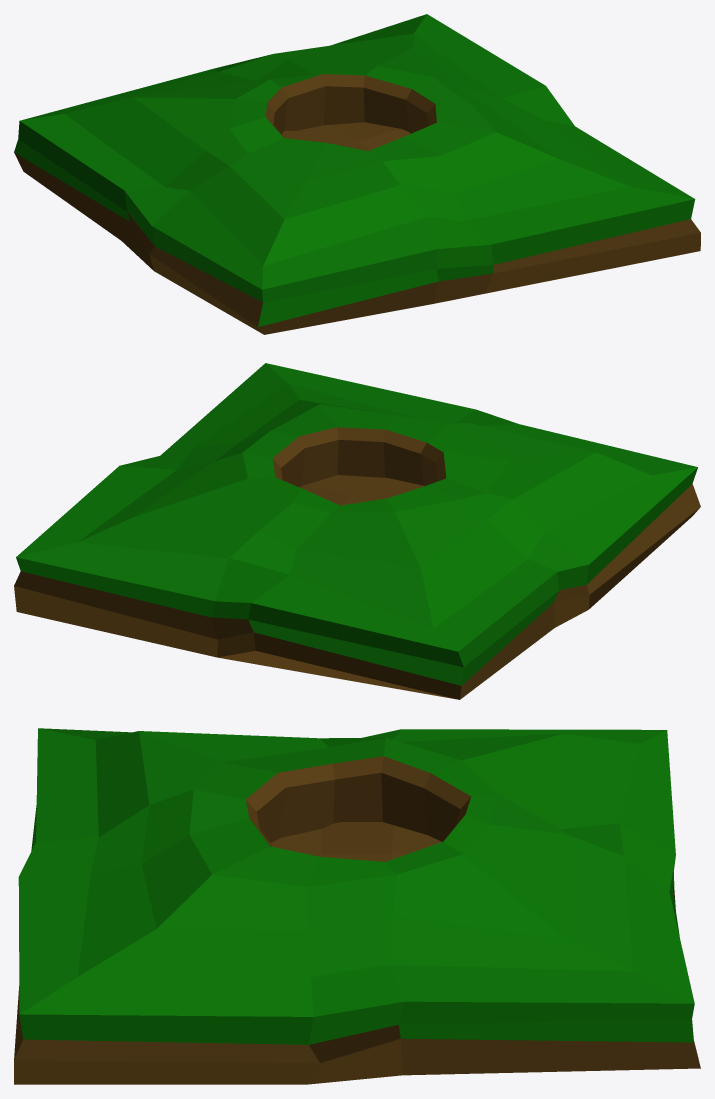
The model's file is Rabbit_Hole.fbx.
3 renders of one model, top to bottom at view 1: azimuth 30°, elevation 25°; view 2: azimuth 150°, elevation 25°; view 3: azimuth 270°, elevation 25°, orthographic. The views are drawn at different scales.
Visible parts, largest first — view 1: Cube.001; view 2: Cube.001; view 3: Cube.001.
Part boxes in pixels (x1,y1,x2,y2): Cube.001: (14, 14, 700, 334); Cube.001: (14, 363, 700, 699); Cube.001: (14, 728, 700, 1084).
Size of the model in its own units: 684 by 163 by 699.
